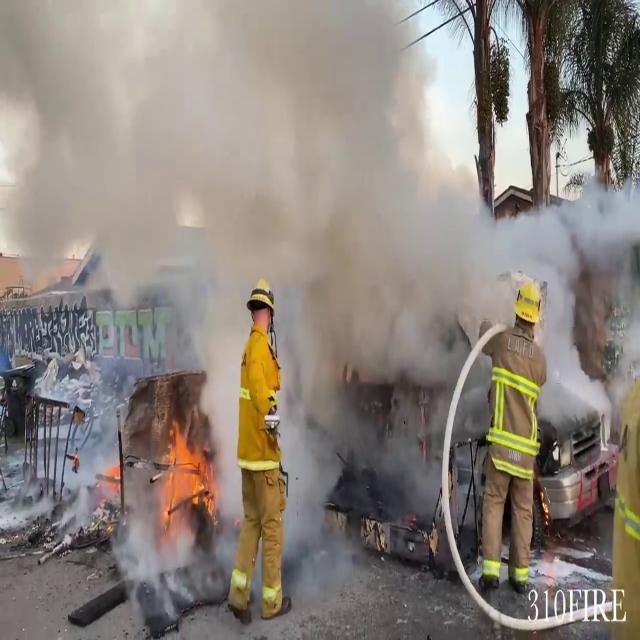Fire: (159, 409, 221, 530)
Smoke: (1, 0, 612, 410)
